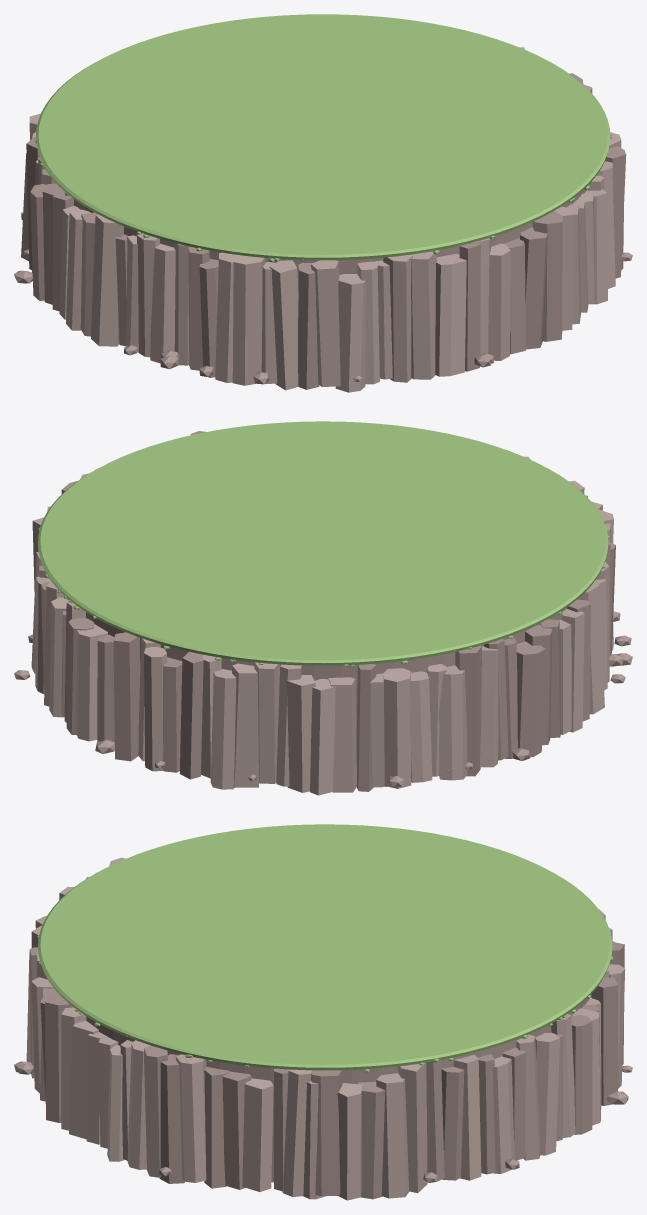
The model's file is HOB_Plateau_Choco.fbx.
3 views of the same model, one above another, from view 1: azimuth 30°, elevation 25°; view 2: azimuth 150°, elevation 25°; view 3: azimuth 270°, elevation 25° (orthographic).
Parts seen in each view (by area): view 1: HOB_Plateau_Choco; view 2: HOB_Plateau_Choco; view 3: HOB_Plateau_Choco.
Boxes of the visible parts, <box> form: HOB_Plateau_Choco: <box>14,14,632,392</box>; HOB_Plateau_Choco: <box>14,421,632,795</box>; HOB_Plateau_Choco: <box>14,824,632,1200</box>.
Size of the model in its own units: 6827 by 1646 by 6993.
